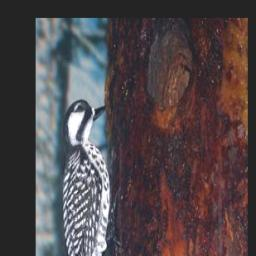Woodpecker: (59, 91, 123, 256)
